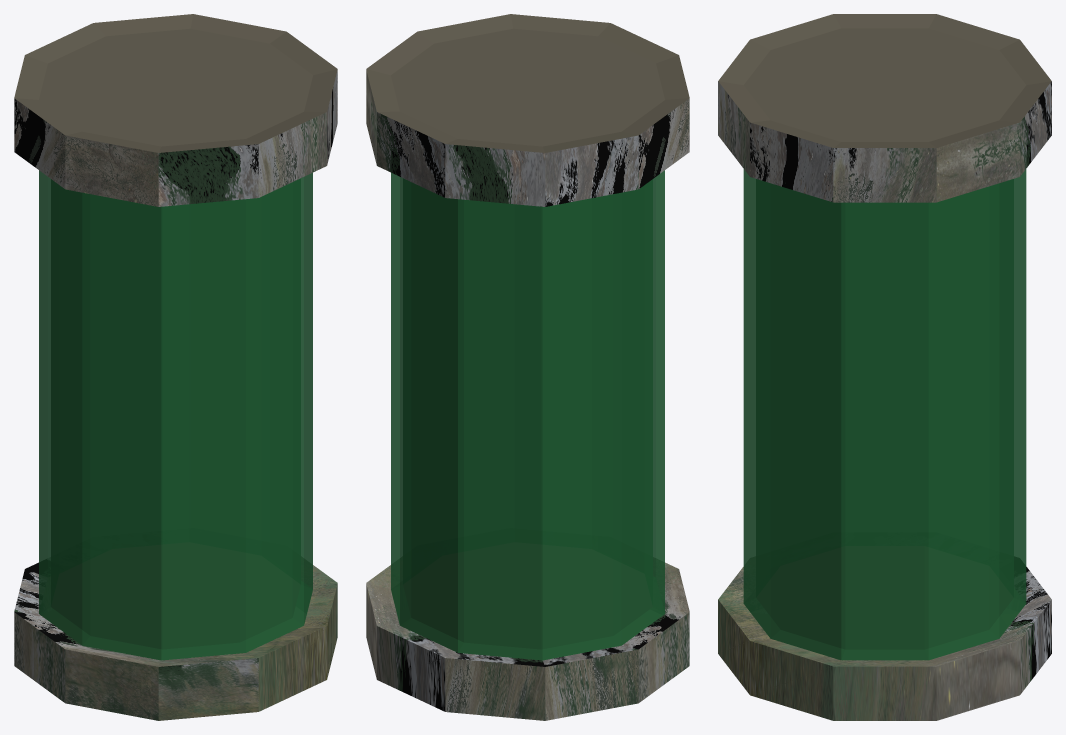
The model's file is wholeTesttube.fbx.
3 views of the same model, side by side, from view 1: azimuth 30°, elevation 25°; view 2: azimuth 150°, elevation 25°; view 3: azimuth 270°, elevation 25° (orthographic).
Visible parts, largest first — view 1: lab.001; view 2: lab.001; view 3: lab.001.
Boxes of the visible parts, left/top/right/bottom form: lab.001: left=14, top=14, right=337, bottom=720; lab.001: left=366, top=14, right=689, bottom=720; lab.001: left=718, top=14, right=1051, bottom=720.
Bounding box in the file's own units: 10.4 × 20.72 × 10.94.
